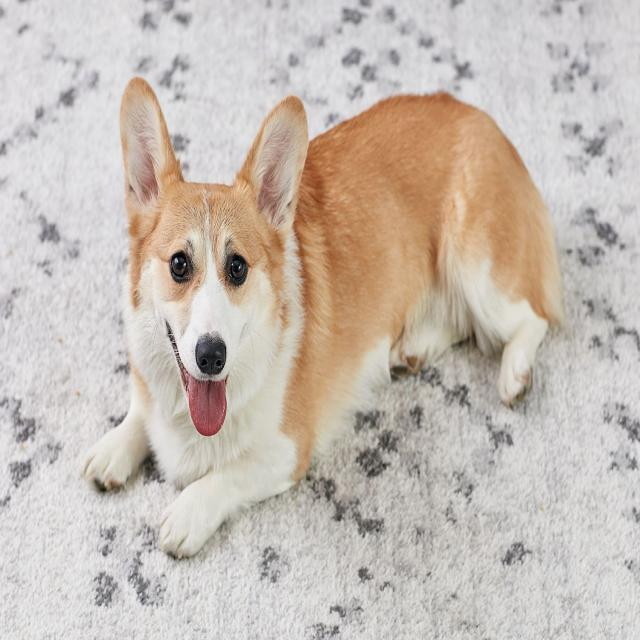laying down: (74, 72, 569, 562)
